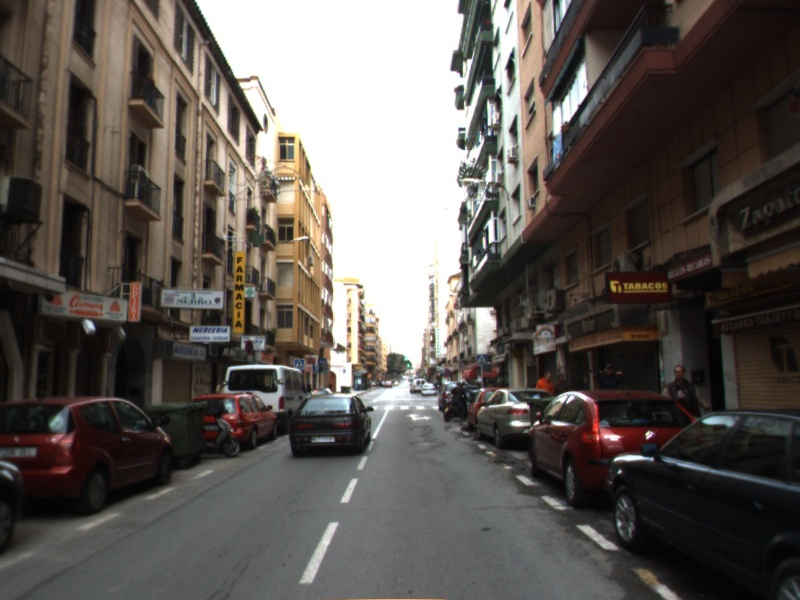STRAIGHT_RIGHT: (404, 412, 434, 422)
